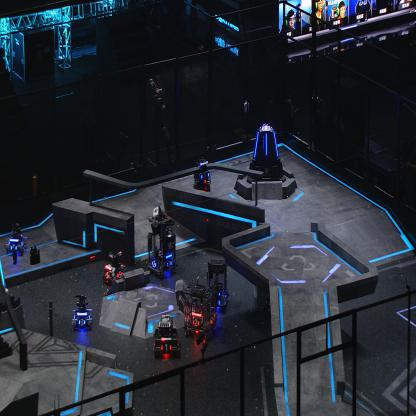car: (145, 214, 177, 275), (184, 279, 217, 337), (153, 312, 181, 359), (206, 258, 230, 310), (103, 250, 126, 285), (72, 293, 93, 330), (5, 223, 28, 256), (193, 162, 211, 192)
